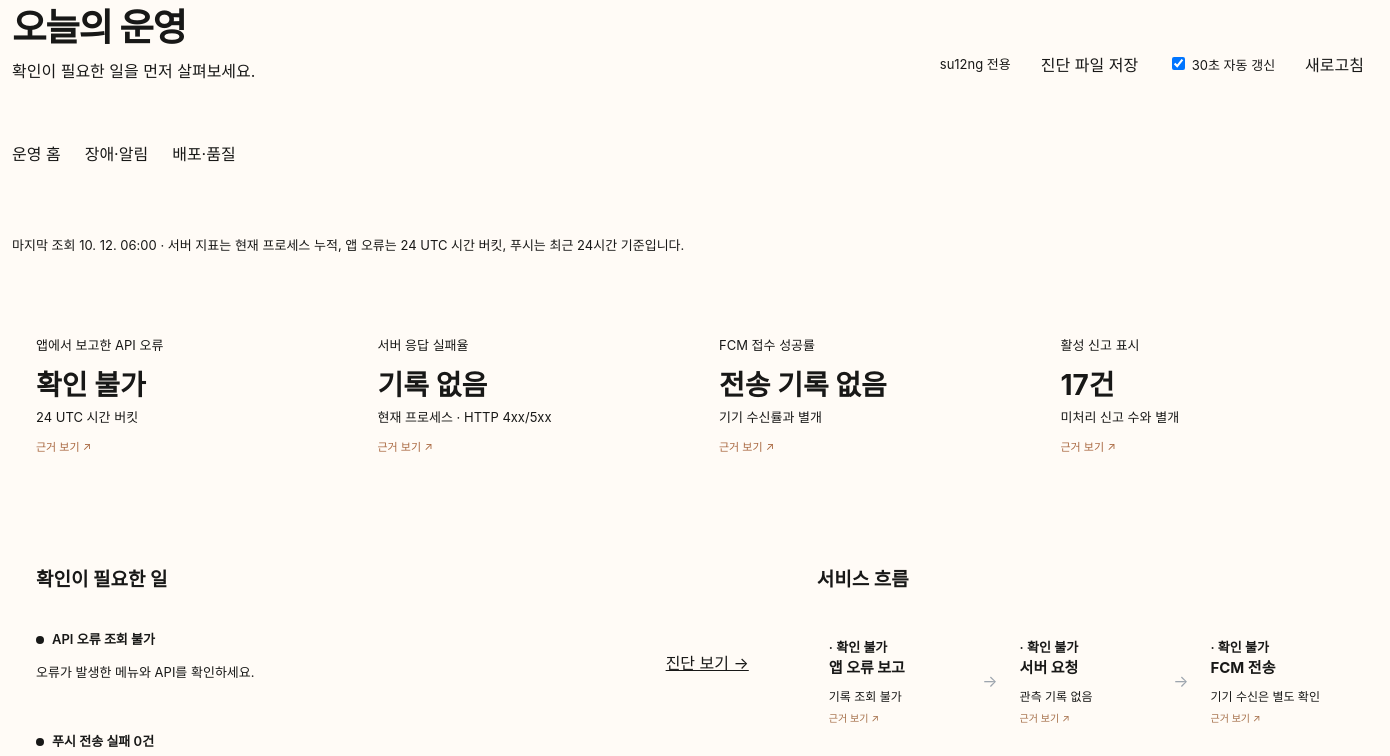
Test: failed refresh clears privileged stale data instead of presenting it as current
The image size is (1390, 756).
Expected: the text "17건" is shown, [1060,368,1115,402]
What coordinates should you click on to do the following:
click the button "새로고침"
I would click on:
 (1335, 64)
Its box is [1291,43,1378,85].
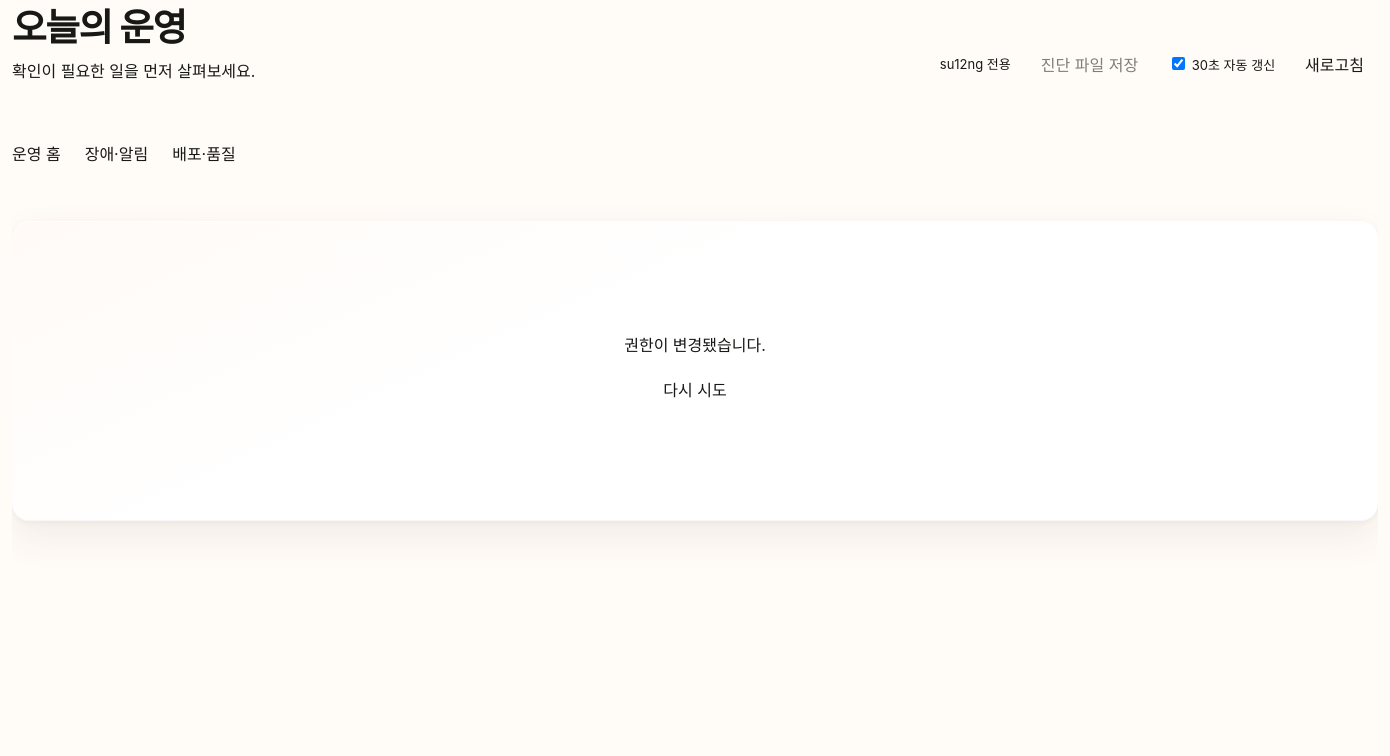
Now the message "권한이 변경됐습니다. 다시 시도" is shown, box [12,221,1378,521]
Now the link "17건" is gone
